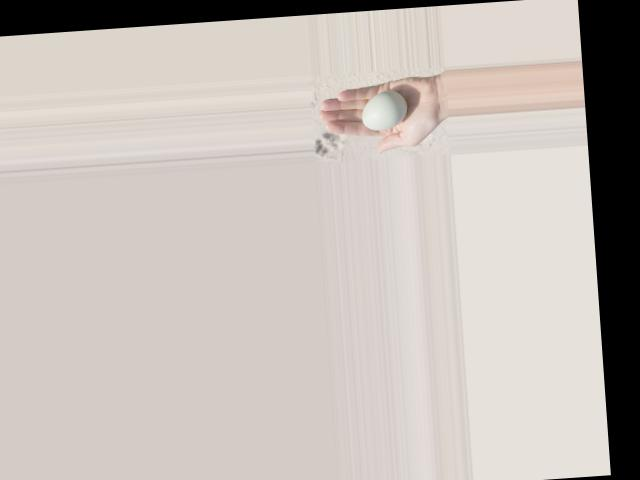egg: (359, 89, 407, 130)
